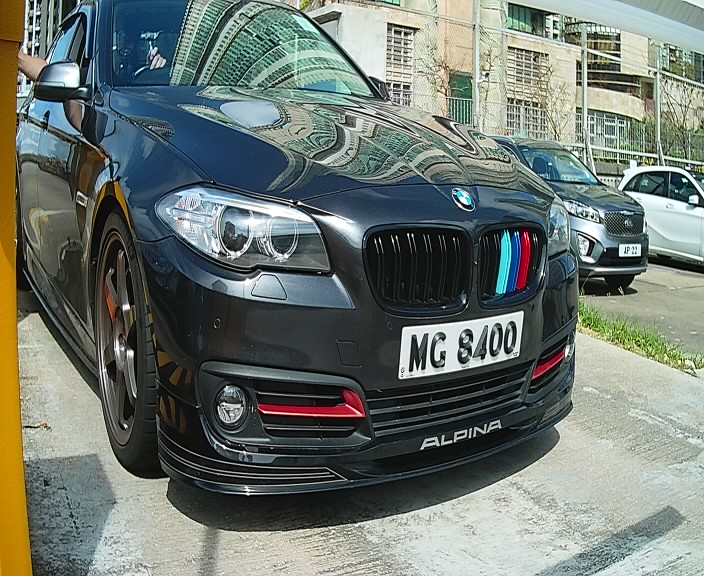License Plate: (394, 302, 530, 392)
